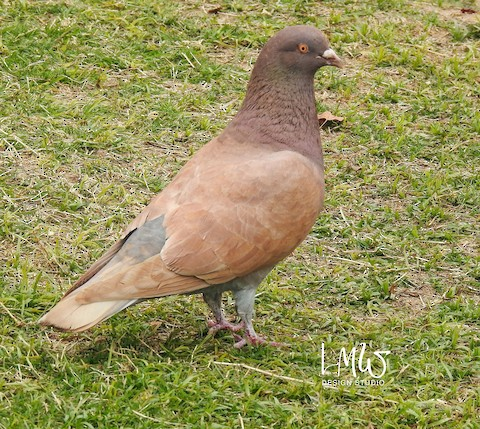pigeon: (34, 20, 347, 357)
